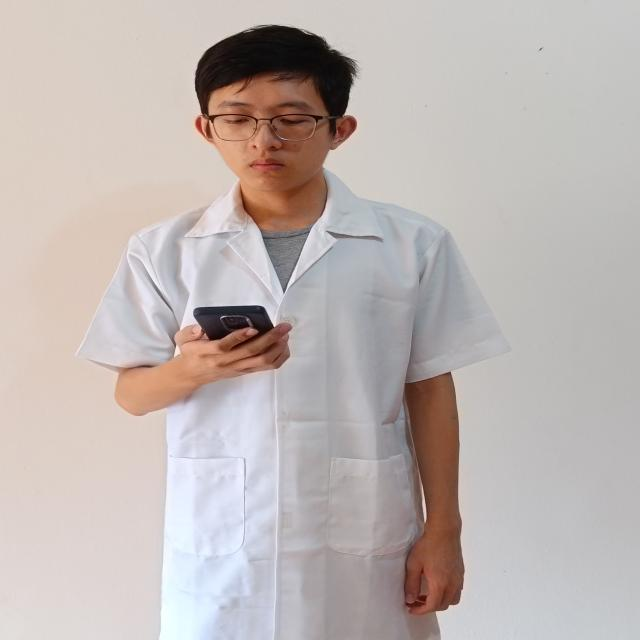person_with_labcoat: (79, 25, 509, 640)
